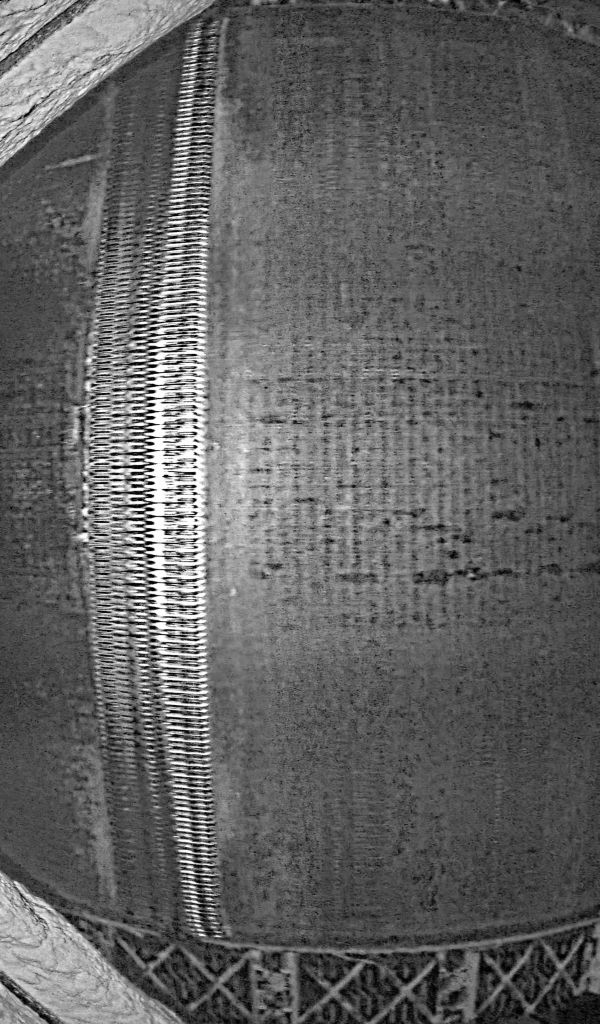splice: (75, 14, 234, 948)
